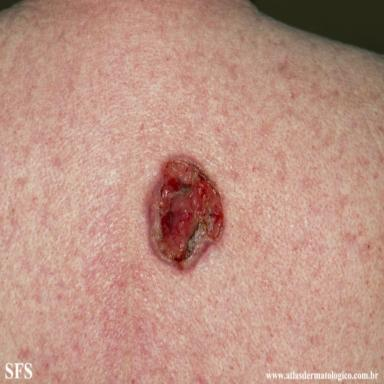basal-cell-carcinoma: (145, 158, 224, 270)
